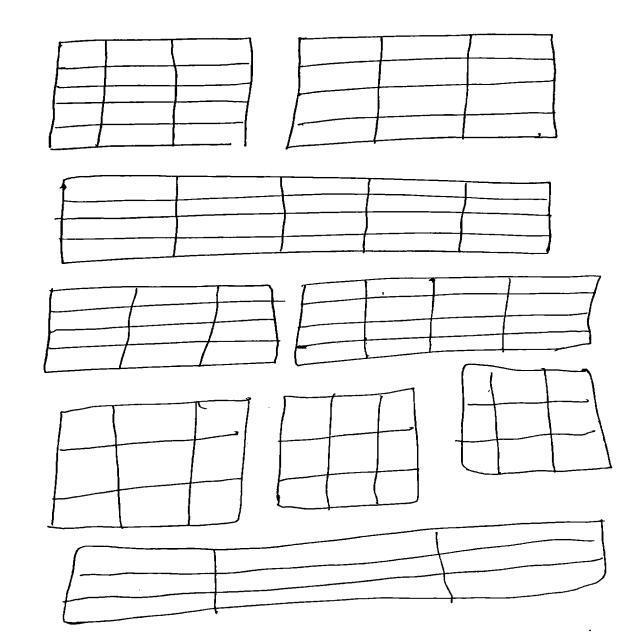table: (63, 520, 610, 626), (55, 175, 555, 265), (286, 34, 558, 151), (295, 276, 602, 367), (48, 397, 252, 530), (49, 38, 254, 151), (44, 285, 286, 374), (277, 388, 420, 511), (456, 364, 613, 476)
